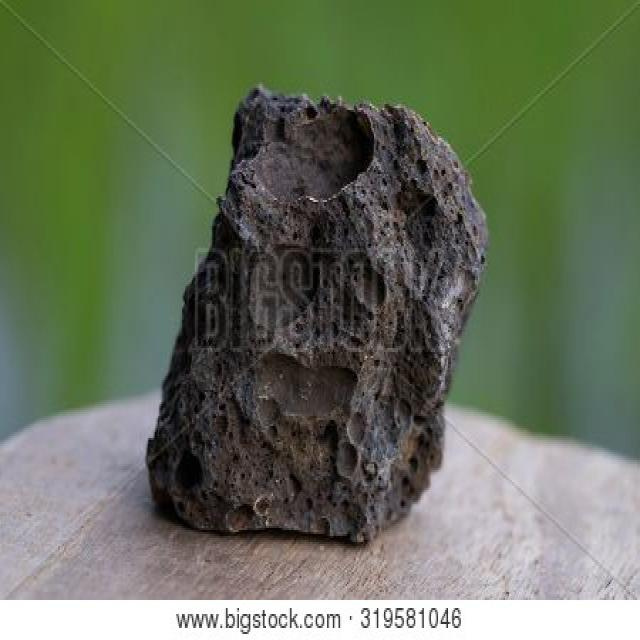Igneous: (166, 80, 489, 556)
